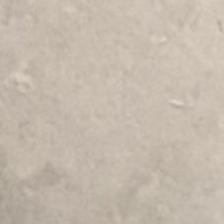Non_Crack: (15, 20, 224, 210)
